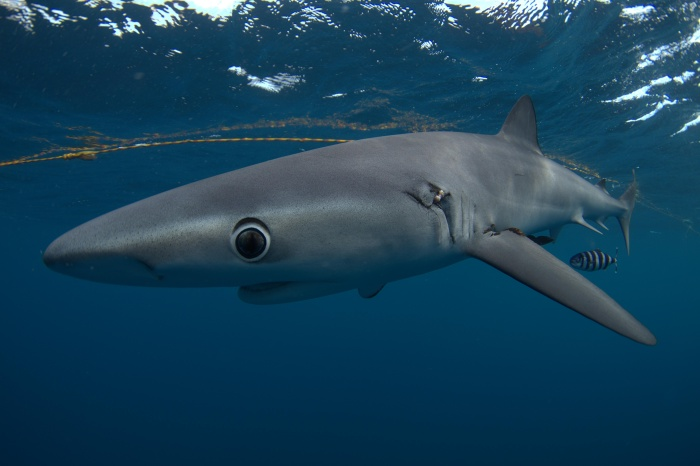Azul: (29, 88, 674, 369)
